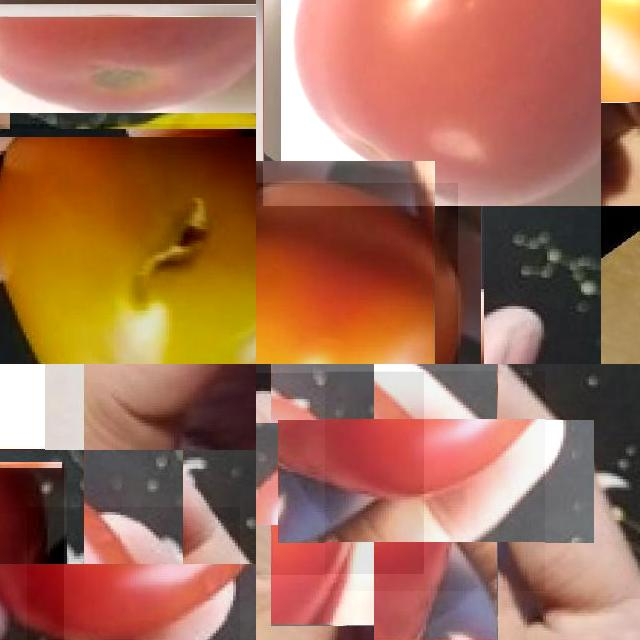Fresh Tomato: (263, 0, 601, 206), (326, 372, 546, 592), (256, 183, 458, 364), (256, 372, 423, 575), (27, 507, 240, 640), (0, 16, 256, 113)
Rotten Tomato: (0, 124, 256, 364)
